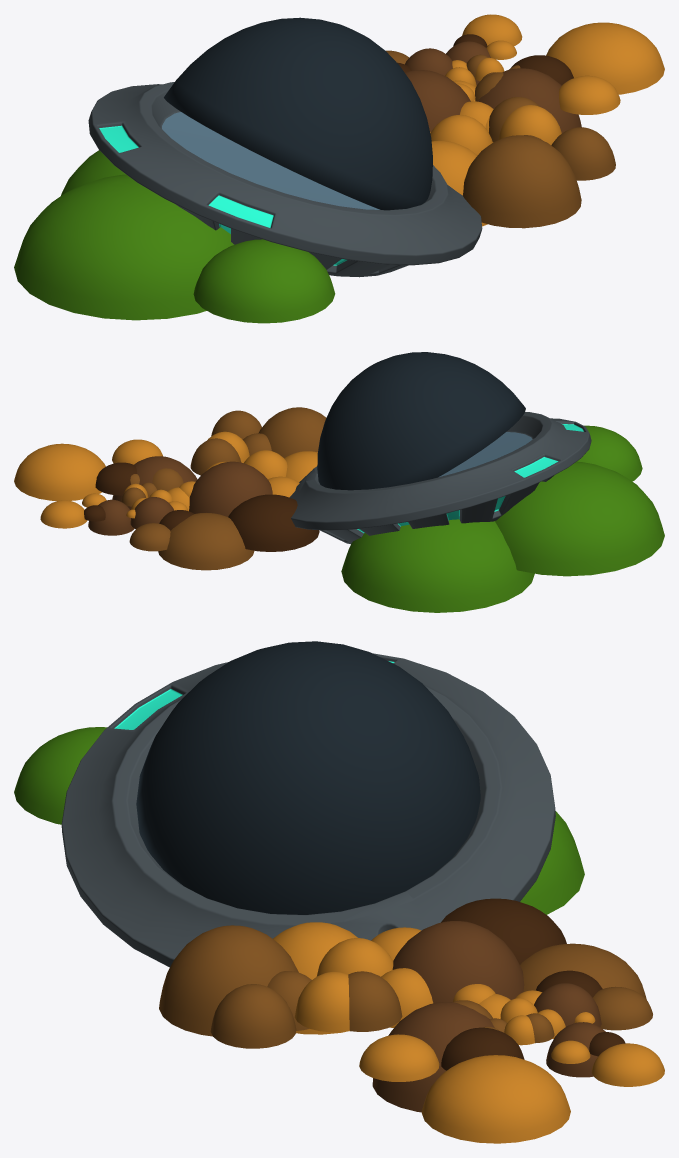
File: SM_Ufo.fbx
3 views of the same model, one above another, from view 1: azimuth 30°, elevation 25°; view 2: azimuth 150°, elevation 25°; view 3: azimuth 270°, elevation 25° (orthographic). The views are drawn at different scales.
Parts seen in each view (by area): view 1: Ufo.001; view 2: Ufo.001; view 3: Ufo.001.
Part boxes in pixels (<box>): Ufo.001: <box>14,14,664,323</box>; Ufo.001: <box>14,352,664,612</box>; Ufo.001: <box>14,641,664,1143</box>.
Size of the model in its own units: 916 by 270 by 597.
